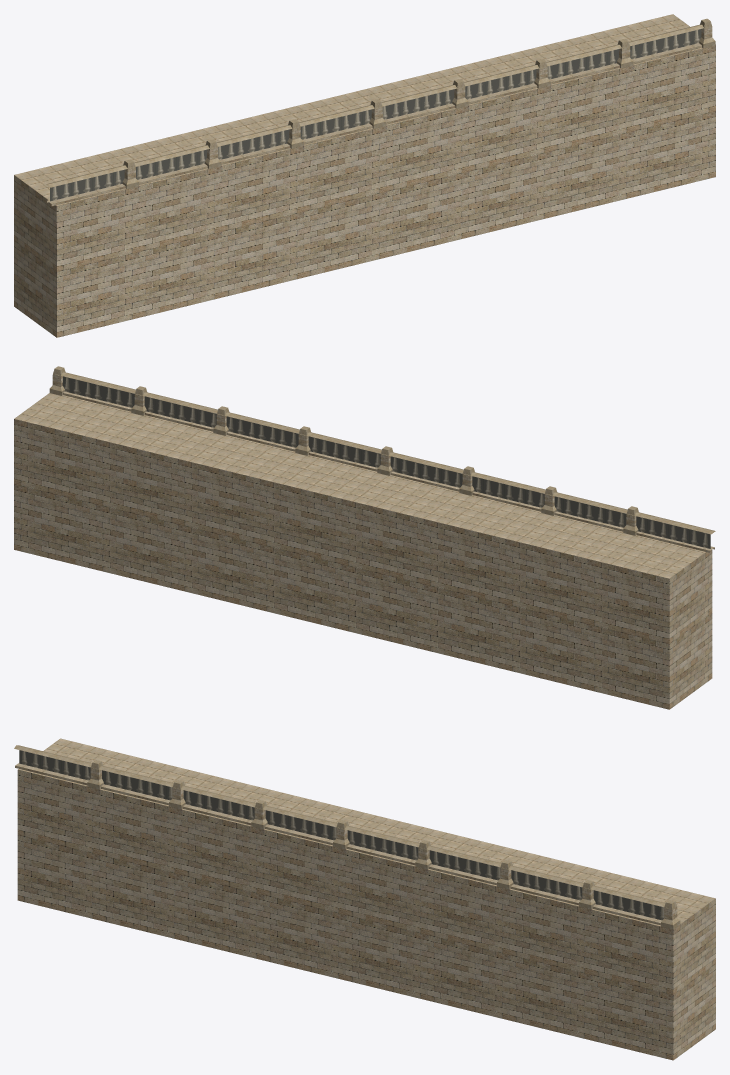
The model's file is thm_nboo_thed_imprv_seawall_straight_s01_4seg_l1.fbx.
3 renders of one model, top to bottom at view 1: azimuth 30°, elevation 25°; view 2: azimuth 150°, elevation 25°; view 3: azimuth 330°, elevation 25°, orthographic.
Visible parts, largest first — view 1: mesh_node; view 2: mesh_node; view 3: mesh_node.
Part boxes in pixels (left/top/right/bottom): mesh_node: left=14, top=14, right=715, bottom=337; mesh_node: left=14, top=366, right=715, bottom=709; mesh_node: left=14, top=738, right=715, bottom=1060.
Bounding box in the file's own units: 32.23 × 7.2 × 3.6.
